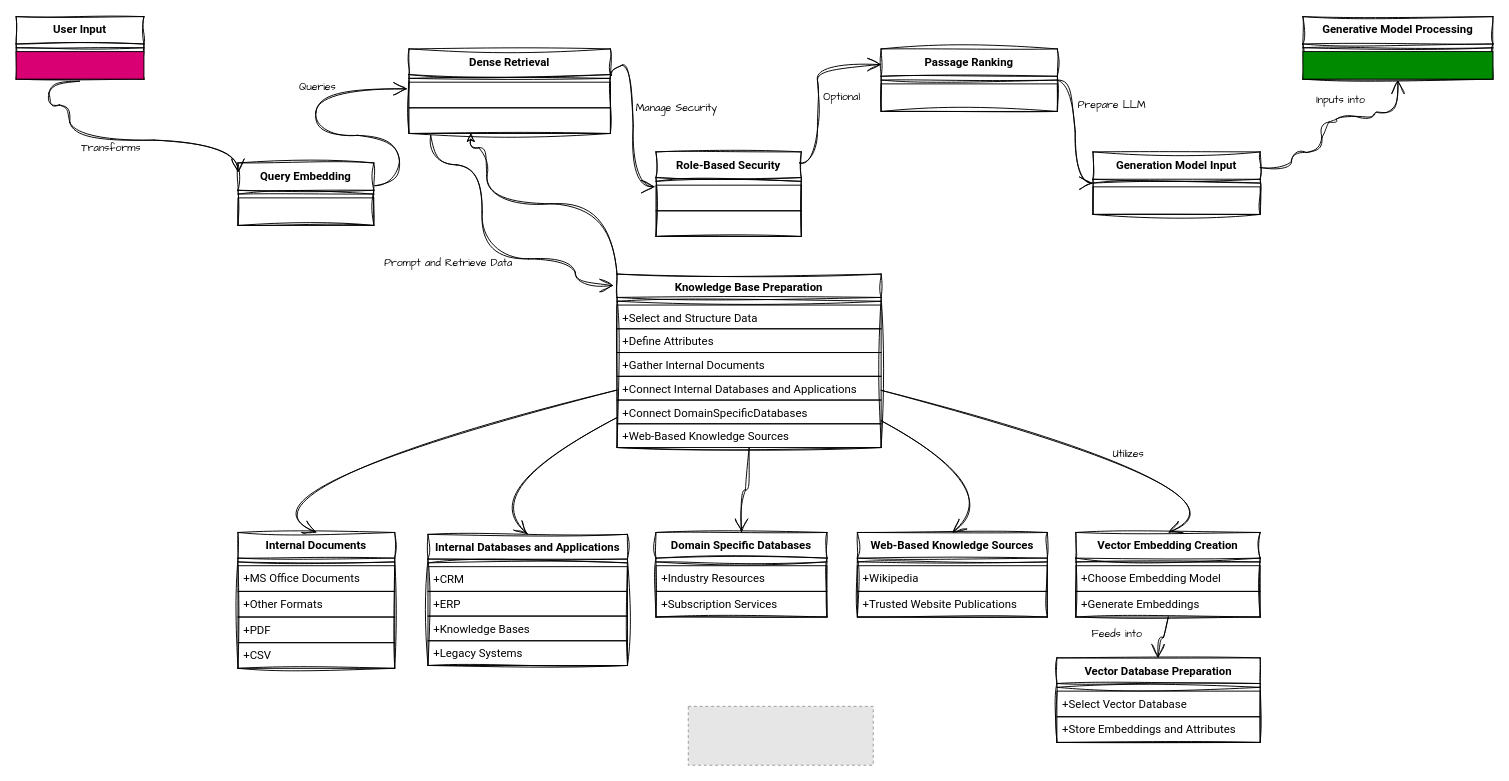
The diagram is 1509 pixels wide and 781 high, and some of its shapes have lost their labels. Grey dashed boxes stand in for pictures. Here are the shapes that lost their labels. From the top down, the centre of each, then its label:
At point (79, 65): "+User Query".
At point (1397, 65): "+Text Generation based on query".
At point (509, 94): "+Nearest Neighbor Search".
At point (968, 97): "+Rank Retrieved Passages".
At point (509, 120): "+Attribute Filtering".
At point (305, 211): "+Process Query".
At point (728, 197): "+User Credentials".
At point (1176, 200): "+Concatenate Information".
At point (728, 223): "+Authorization".
